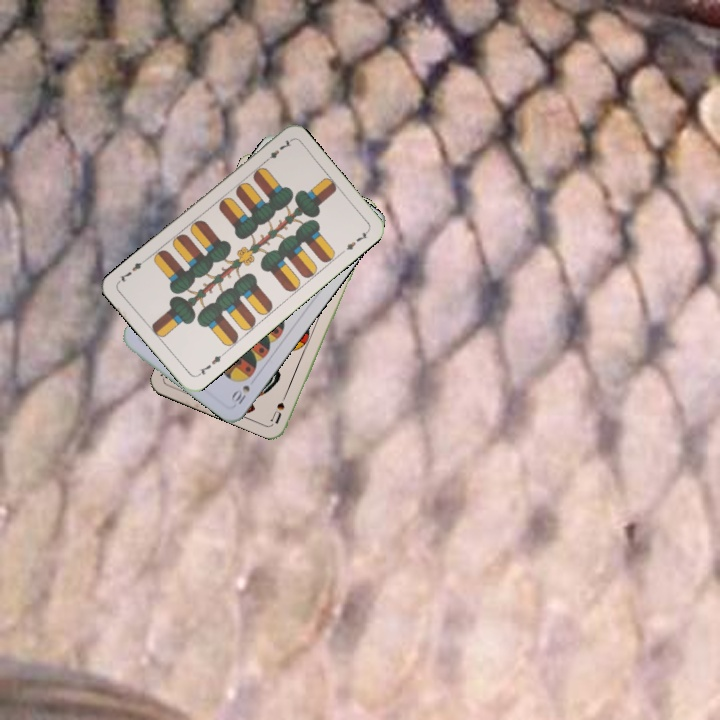E7: (259, 136, 294, 166), (193, 349, 227, 379)
S10: (227, 381, 253, 407)
SU: (267, 386, 291, 425)
